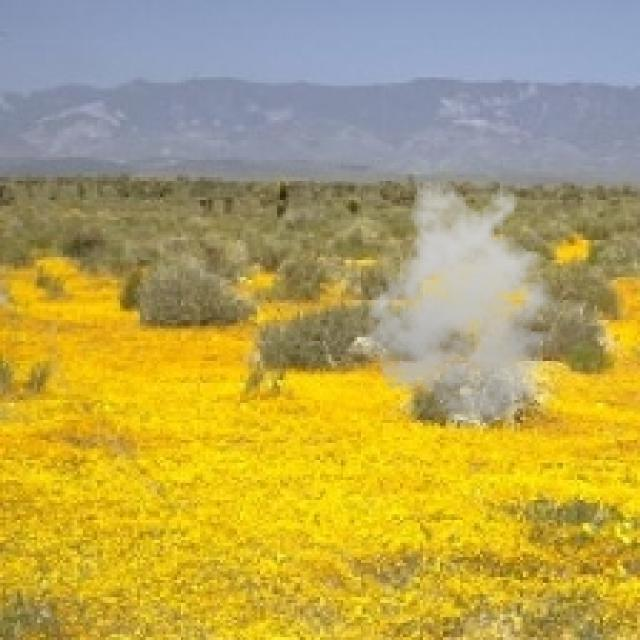smoke: (354, 177, 577, 426)
